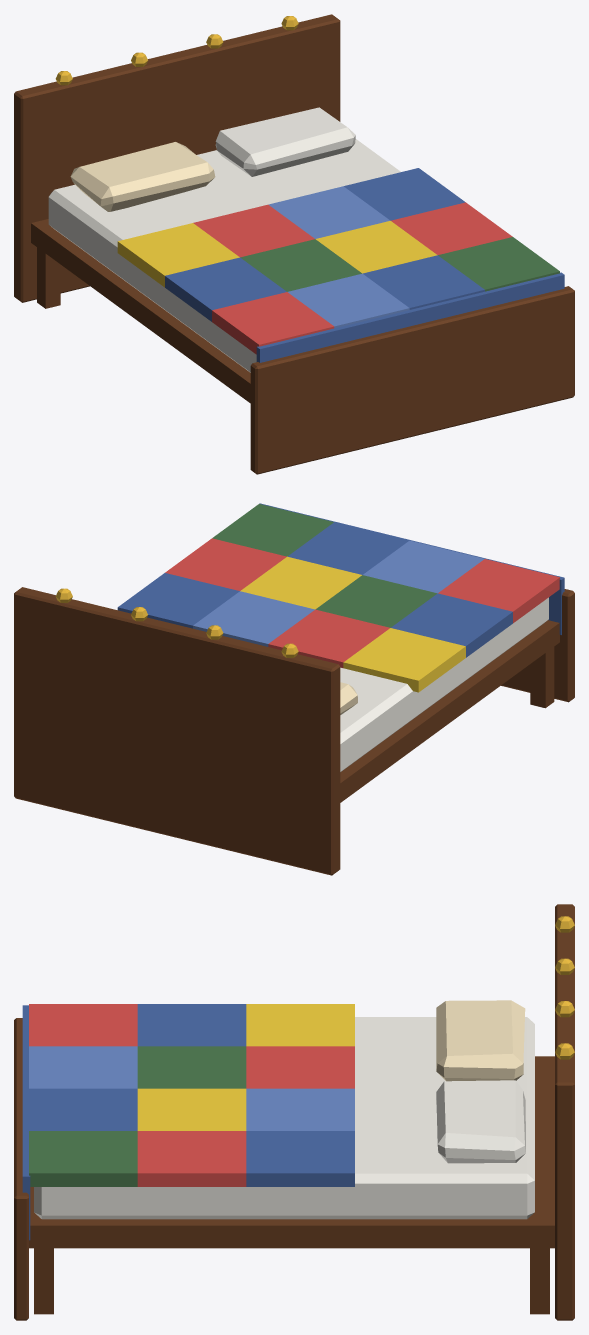
The model's file is bed.fbx.
3 views of the same model, one above another, from view 1: azimuth 30°, elevation 25°; view 2: azimuth 150°, elevation 25°; view 3: azimuth 270°, elevation 25° (orthographic). The views are drawn at different scales.
Visible parts, largest first — view 1: bed; view 2: bed; view 3: bed.
Part boxes in pixels (x1=…): bed: x1=14, y1=14, x2=574, y2=474; bed: x1=14, y1=503, x2=574, y2=875; bed: x1=14, y1=904, x2=574, y2=1320.
Size of the model in its own units: 6.8 by 4.44 by 8.96.
